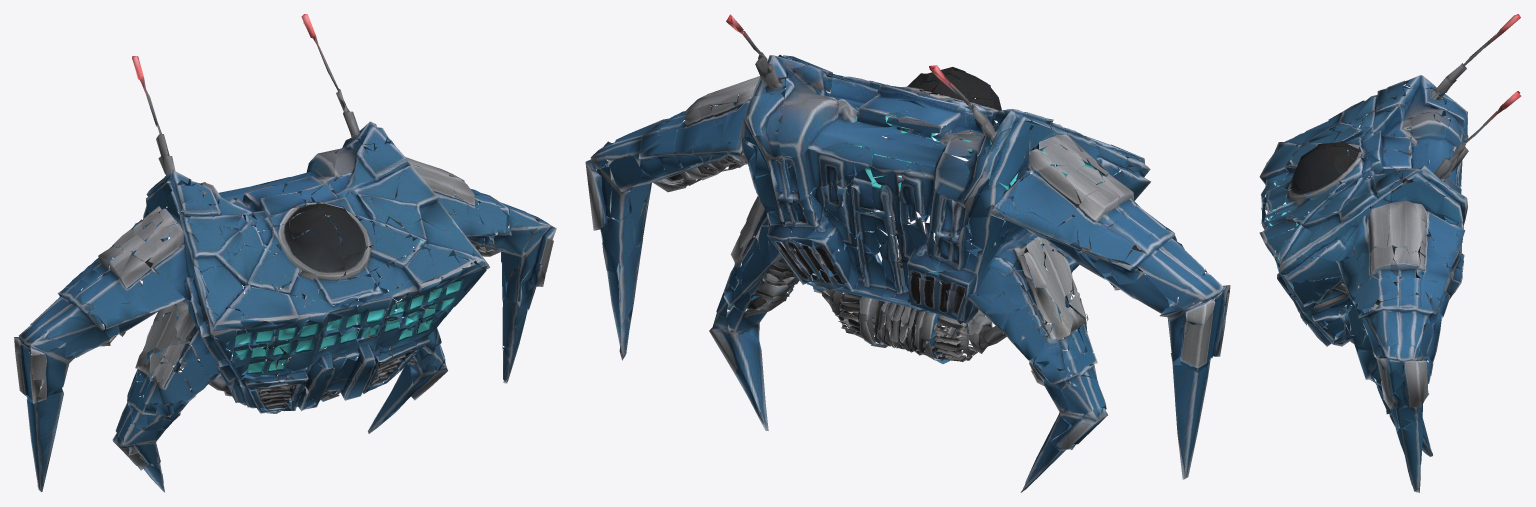
Rendered from Enemy5-v2.glb.
3 views of the same model, side by side, from view 1: azimuth 30°, elevation 25°; view 2: azimuth 150°, elevation 25°; view 3: azimuth 270°, elevation 25° (orthographic). The views are drawn at different scales.
Parts seen in each view (by area): view 1: Mesh_0; view 2: Mesh_0; view 3: Mesh_0.
Boxes of the visible parts, x1,y1,x2,y2 form: Mesh_0: (14, 14, 556, 492); Mesh_0: (585, 14, 1230, 492); Mesh_0: (1259, 14, 1521, 492).
Bounding box in the file's own units: 1.9 × 1.36 × 0.8918.
Materials: 1 (1 with a texture image).
